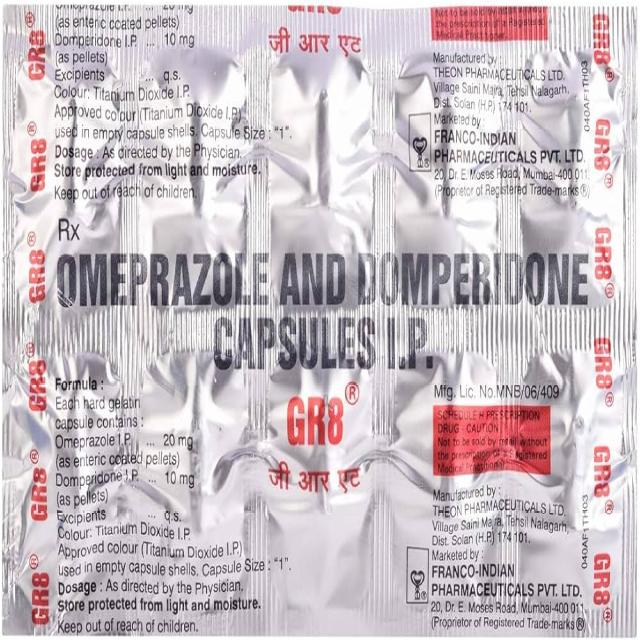Medicine-name: (54, 248, 594, 372)
